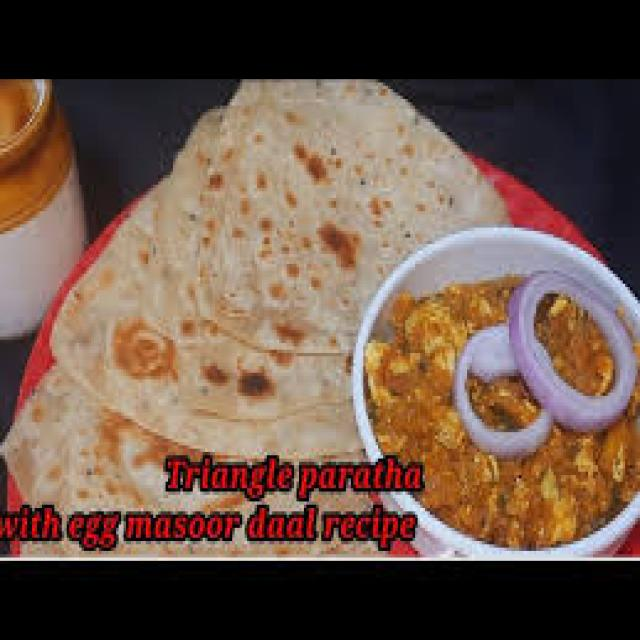ROTI: (47, 76, 502, 455)
